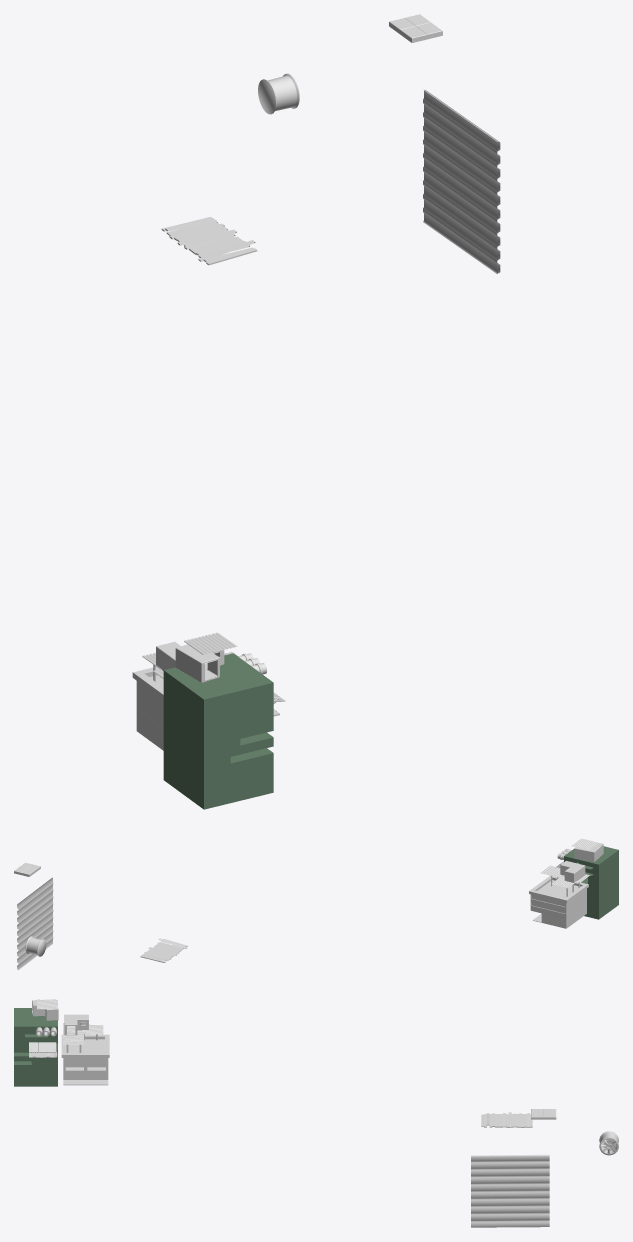
File: Cyberpunk (downtown) 5.fbx
3 views of the same model, one above another, from view 1: azimuth 30°, elevation 25°; view 2: azimuth 150°, elevation 25°; view 3: azimuth 270°, elevation 25° (orthographic). The views are drawn at different scales.
Parts seen in each view (by area): view 1: Cube.022, Metal_Plate_LOD0.003, Cube.035, Cube.115, Cube.118, fan.002; view 2: Cube.115, Cube.022, Metal_Plate_LOD0.003, Cube.035, Cube.113, Cube.118, fan.002, Cube.052; view 3: Metal_Plate_LOD0.003, Cube.022, Cube.115, Cube.035, fan.002, Cube.113.
Part boxes in pixels (<box>): Cube.022: <box>163,653,273,809</box>; Metal_Plate_LOD0.003: <box>423,89,500,273</box>; Cube.035: <box>161,217,257,265</box>; Cube.115: <box>132,666,163,750</box>; Cube.118: <box>175,644,224,682</box>; fan.002: <box>258,73,299,114</box>; Cube.115: <box>529,875,588,928</box>; Cube.022: <box>564,846,618,919</box>; Metal_Plate_LOD0.003: <box>17,877,53,970</box>; Cube.035: <box>140,938,187,962</box>; Cube.113: <box>560,861,585,882</box>; Cube.118: <box>574,843,603,862</box>; fan.002: <box>25,936,46,956</box>; Cube.052: <box>14,862,40,876</box>; Metal_Plate_LOD0.003: <box>471,1154,549,1227</box>; Cube.022: <box>14,1008,57,1086</box>; Cube.115: <box>61,1034,109,1085</box>; Cube.035: <box>481,1112,532,1127</box>; fan.002: <box>599,1131,618,1155</box>; Cube.113: <box>64,1014,88,1035</box>.
Bounding box in the file's own units: 21105 × 7274 × 28353.
